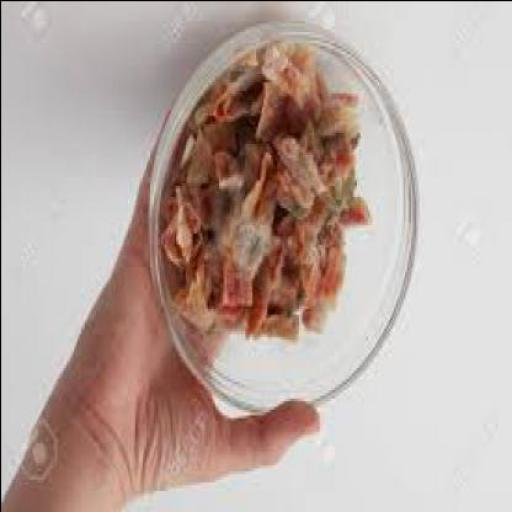biodegradable: (166, 45, 368, 341), (201, 134, 263, 252), (230, 160, 280, 272), (263, 39, 328, 123), (300, 232, 350, 338), (272, 122, 336, 199), (176, 250, 220, 336), (164, 185, 209, 268), (264, 160, 314, 224), (251, 76, 294, 146), (244, 251, 274, 347), (312, 134, 362, 191), (190, 132, 236, 193), (307, 90, 364, 136), (220, 257, 259, 310), (215, 81, 261, 123), (258, 316, 306, 344), (334, 196, 370, 230), (214, 311, 248, 338), (190, 109, 222, 131)
glass: (148, 25, 419, 419)
